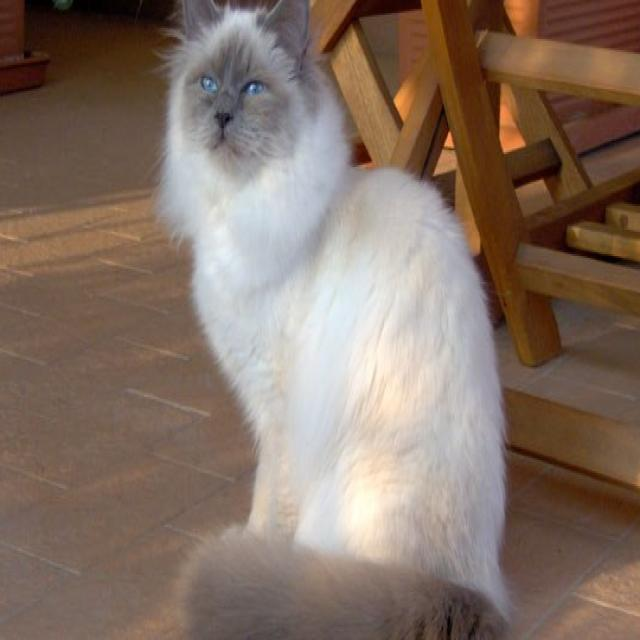Birman: (160, 0, 510, 640)
